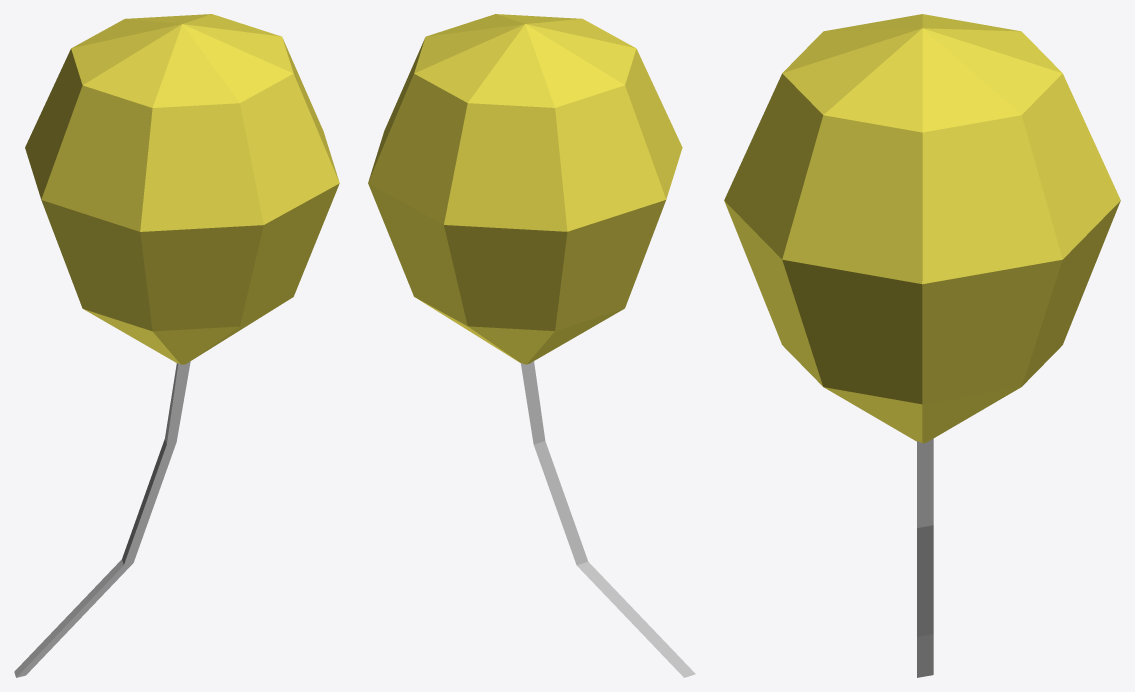
The model's file is baloonyellow.fbx.
The picture shows the model from 3 angles, left to right: view 1: azimuth 30°, elevation 25°; view 2: azimuth 150°, elevation 25°; view 3: azimuth 270°, elevation 25°; orthographic projection. The views are drawn at different scales.
Visible parts, largest first — view 1: 球, 円柱; view 2: 球, 円柱; view 3: 球, 円柱.
Part boxes in pixels (box(x1,y1,x2,y2)): 球: box(25, 14, 339, 364); 円柱: box(14, 361, 190, 677); 球: box(368, 14, 682, 364); 円柱: box(520, 361, 695, 677); 球: box(724, 14, 1120, 443); 円柱: box(917, 438, 933, 677).
Bounding box in the file's own units: 219 × 414 × 200.
